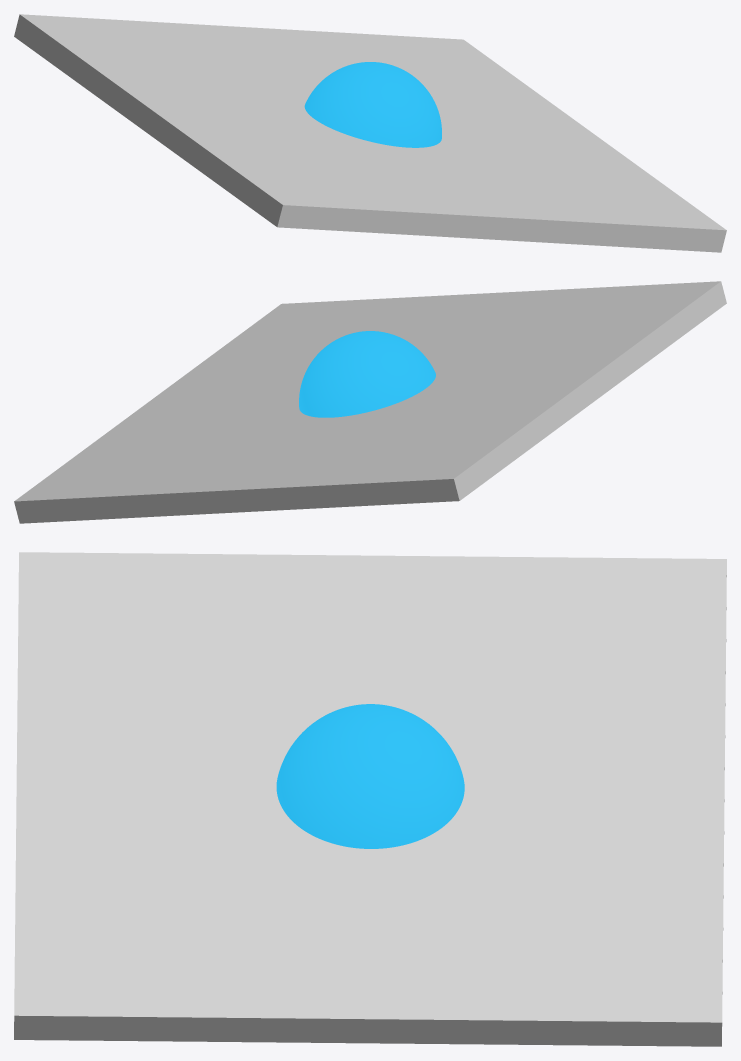
File: New_blackHole.glb
3 views of the same model, one above another, from view 1: azimuth 30°, elevation 25°; view 2: azimuth 150°, elevation 25°; view 3: azimuth 270°, elevation 25° (orthographic). The views are drawn at different scales.
Visible parts, largest first — view 1: Cube, Icosphere; view 2: Cube, Icosphere; view 3: Cube, Icosphere.
Boxes of the visible parts, x1,y1,x2,y2 form: Cube: (14, 14, 726, 252); Icosphere: (304, 62, 441, 147); Cube: (14, 281, 726, 523); Icosphere: (299, 331, 435, 417); Cube: (14, 552, 726, 1046); Icosphere: (276, 704, 464, 848).
Size of the model in its own units: 7.26 by 2.42 by 7.47.
